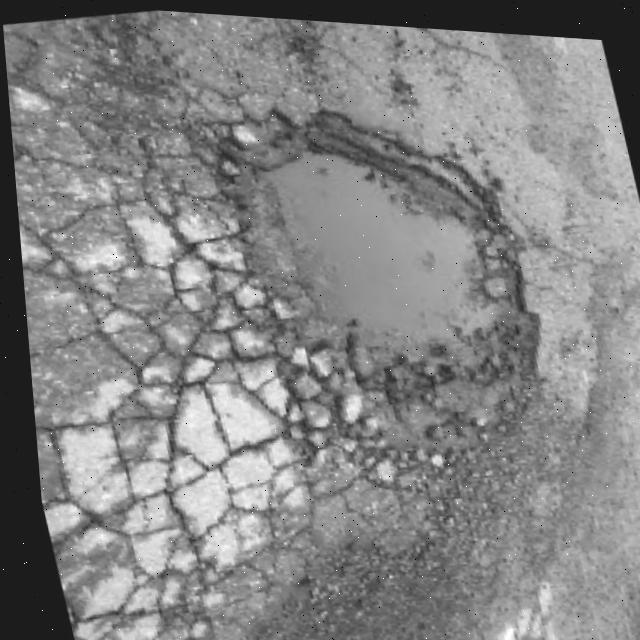Pothole: (151, 36, 600, 478)
